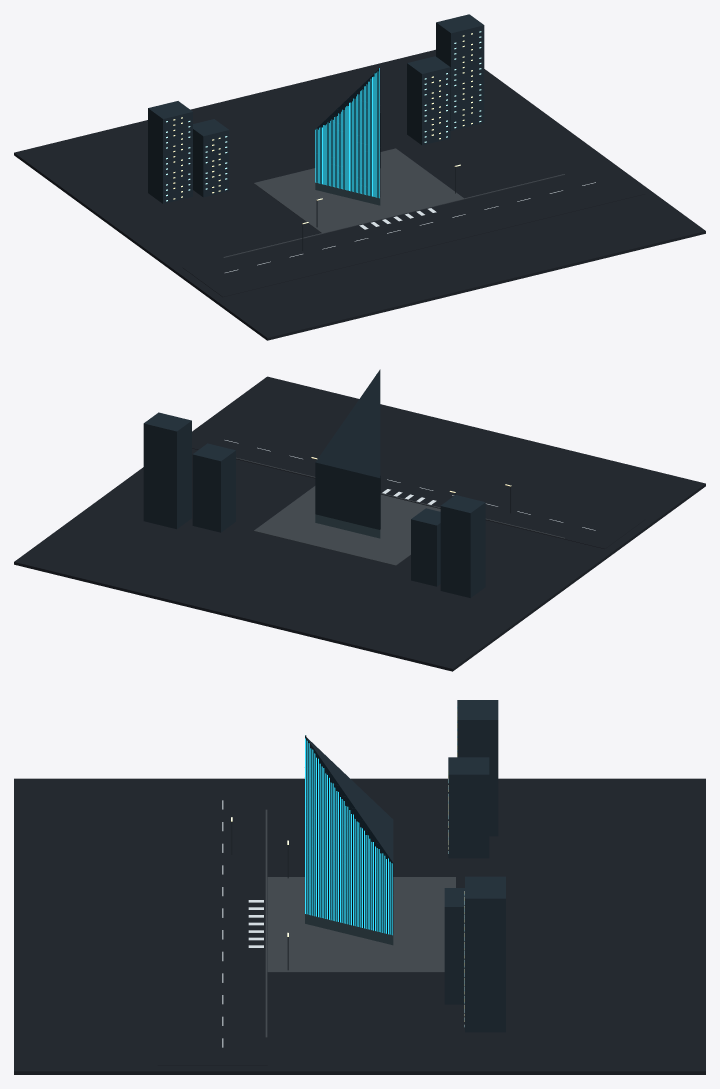
Rendered from collins_light_house.glb.
3 renders of one model, top to bottom at view 1: azimuth 30°, elevation 25°; view 2: azimuth 150°, elevation 25°; view 3: azimuth 270°, elevation 25°, orthographic. The views are drawn at different scales.
Parts seen in each view (by area): view 1: CITY_GROUND, FRONT_STREET, CORNER_PAVEMENT, LED_STRIPS, LED_CHANNELS, NEIGHBOR_BUILDING_3, NEIGHBOR_BUILDING_1, NEIGHBOR_BUILDING_2, NEIGHBOR_BUILDING_0, LEFT_GLASS_FACADE, STREET_CURB, GROUND_FLOOR_LOBBY; view 2: CITY_GROUND, FRONT_STREET, CORNER_PAVEMENT, NEIGHBOR_BUILDING_3, NEIGHBOR_BUILDING_1, DARK_ROOF, NEIGHBOR_BUILDING_2, REAR_GLASS_FACADE, NEIGHBOR_BUILDING_0, GROUND_FLOOR_LOBBY; view 3: CITY_GROUND, FRONT_STREET, CORNER_PAVEMENT, LED_STRIPS, LED_CHANNELS, NEIGHBOR_BUILDING_3, RIGHT_GLASS_FACADE, NEIGHBOR_BUILDING_0, NEIGHBOR_BUILDING_1, NEIGHBOR_BUILDING_2, DARK_ROOF, GROUND_FLOOR_LOBBY (+1 smaller).
Part boxes in pixels (<box>): CITY_GROUND: <box>14,49,705,340</box>; FRONT_STREET: <box>182,164,644,296</box>; CORNER_PAVEMENT: <box>254,148,463,232</box>; LED_STRIPS: <box>315,68,379,198</box>; LED_CHANNELS: <box>316,68,380,197</box>; NEIGHBOR_BUILDING_3: <box>436,14,484,130</box>; NEIGHBOR_BUILDING_1: <box>148,101,192,203</box>; NEIGHBOR_BUILDING_2: <box>407,56,450,145</box>; NEIGHBOR_BUILDING_0: <box>193,119,229,197</box>; LEFT_GLASS_FACADE: <box>315,68,380,196</box>; STREET_CURB: <box>223,174,564,257</box>; GROUND_FLOOR_LOBBY: <box>315,182,380,205</box>; CITY_GROUND: <box>14,376,705,671</box>; FRONT_STREET: <box>192,416,645,548</box>; CORNER_PAVEMENT: <box>254,486,440,565</box>; NEIGHBOR_BUILDING_3: <box>143,412,191,529</box>; NEIGHBOR_BUILDING_1: <box>440,495,485,597</box>; DARK_ROOF: <box>315,369,380,477</box>; NEIGHBOR_BUILDING_2: <box>192,443,235,532</box>; REAR_GLASS_FACADE: <box>315,462,380,529</box>; NEIGHBOR_BUILDING_0: <box>411,508,440,586</box>; GROUND_FLOOR_LOBBY: <box>315,514,380,538</box>; CITY_GROUND: <box>14,778,705,1074</box>; FRONT_STREET: <box>157,783,267,1065</box>; CORNER_PAVEMENT: <box>267,877,455,972</box>; LED_STRIPS: <box>305,735,392,935</box>; LED_CHANNELS: <box>305,735,392,934</box>; NEIGHBOR_BUILDING_3: <box>465,876,505,1032</box>; RIGHT_GLASS_FACADE: <box>305,736,393,933</box>; NEIGHBOR_BUILDING_0: <box>448,757,489,858</box>; NEIGHBOR_BUILDING_1: <box>457,700,498,836</box>; NEIGHBOR_BUILDING_2: <box>444,888,464,1004</box>; DARK_ROOF: <box>305,736,393,862</box>; GROUND_FLOOR_LOBBY: <box>305,912,393,945</box>.
Bounding box in the file's own units: 54 × 16.63 × 54.
